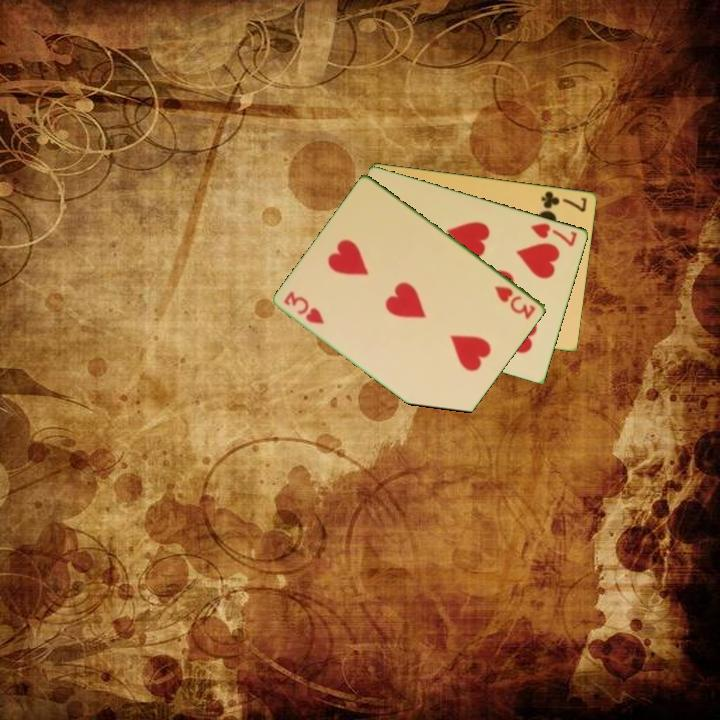3h: (491, 282, 539, 322), (281, 288, 328, 327)
7c: (538, 187, 590, 214)
7h: (527, 219, 580, 249)
